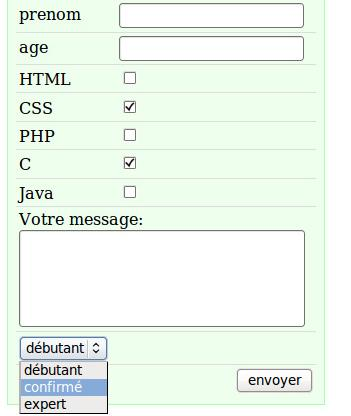button: (236, 368, 316, 394)
checkbox: (122, 183, 138, 200), (122, 100, 141, 114), (120, 155, 136, 170), (121, 128, 138, 142), (123, 70, 137, 85)
checkbox_with_label: (18, 181, 140, 203), (17, 153, 139, 173), (19, 68, 138, 88), (19, 98, 144, 117), (19, 127, 140, 144)
field: (18, 229, 307, 328), (119, 2, 307, 29), (118, 35, 306, 62), (18, 335, 108, 361)
field_with_label: (16, 210, 310, 329), (18, 0, 310, 32), (20, 34, 307, 63)
